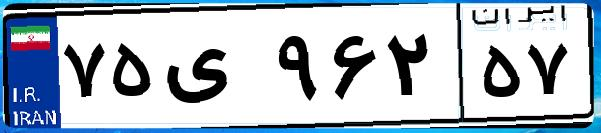2: (385, 28, 445, 110)
5: (475, 38, 525, 113), (110, 28, 158, 98)
6: (330, 28, 385, 110)
7: (57, 26, 110, 100), (525, 38, 570, 115)
9: (270, 28, 330, 110)
ی: (158, 20, 270, 120)
